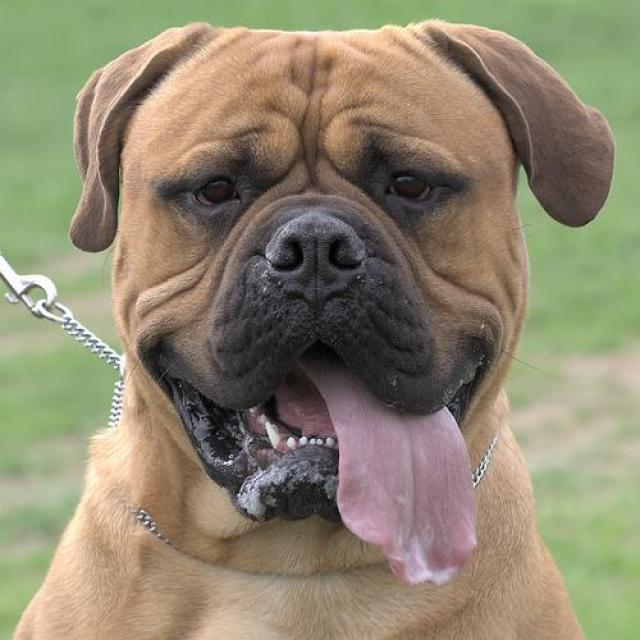happy: (5, 2, 640, 640)
